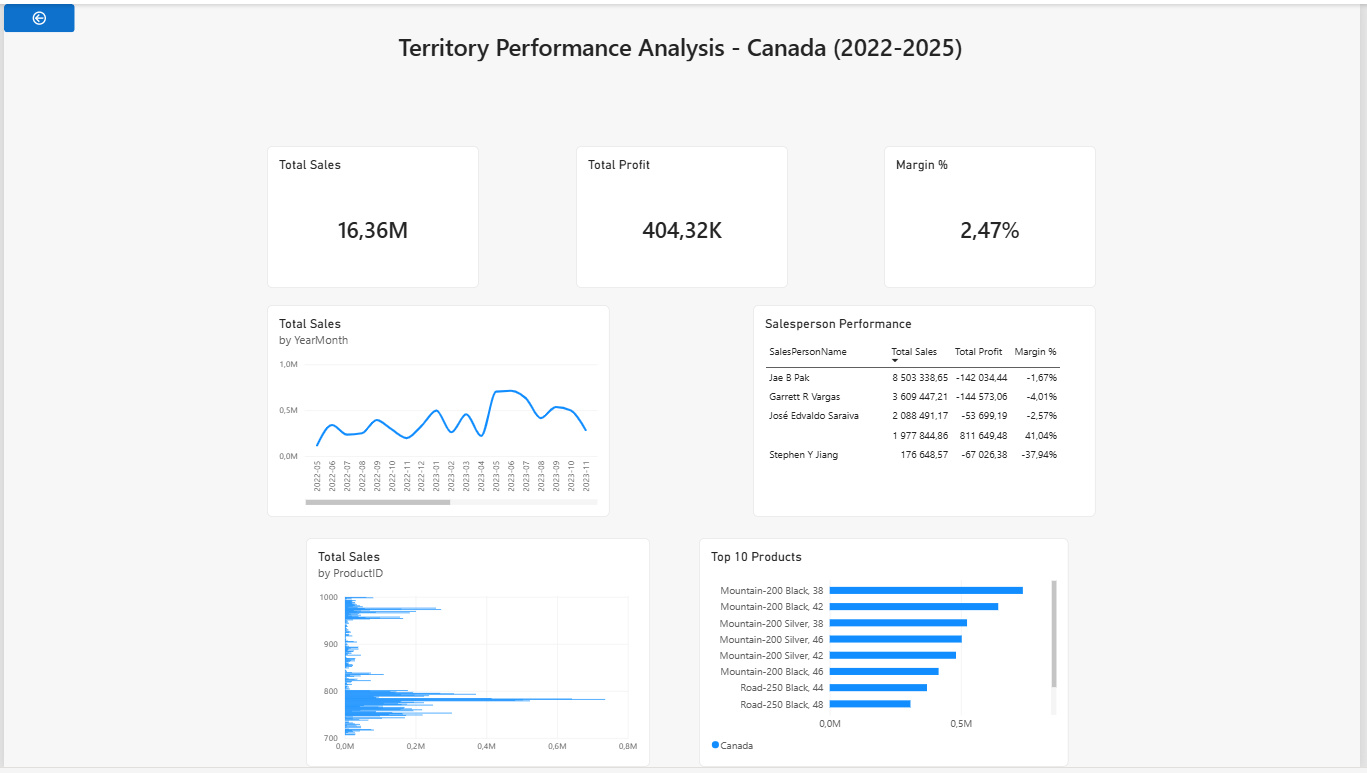

The page's visual inventory and layout, read from the dashboard file:
{"tool":"powerbi","page":{"name":"Territory Detail","canvas":[1920,1080],"ordinal":1},"visuals":[{"type":"actionButton","box":[0,0,100,40],"z":0},{"type":"kpi","title":"Total Sales ","fields":{"Indicator":["FactSales.Total Sales"],"TrendLine":["DimTerritory.Name"]},"box":[371.9,201.3,300,200.6],"z":1000},{"type":"kpi","title":"Total Profit ","fields":{"Indicator":["FactSales.Total Profit"],"TrendLine":["DimTerritory.Name"]},"box":[809.7,201.3,300,200.6],"z":2000},{"type":"kpi","title":"Margin % ","fields":{"Indicator":["FactSales.Margin %"],"TrendLine":["DimTerritory.Name"]},"box":[1245.7,201.3,300,200.6],"z":3000},{"type":"lineChart","fields":{"Category":["DimDate.YearMonth"],"Y":["FactSales.Total Sales"]},"box":[371.9,426.6,484.9,300],"z":4000},{"type":"clusteredBarChart","fields":{"Category":["DimProduct.ProductID"],"Y":["FactSales.Total Sales"]},"box":[427.3,755.2,486.6,324.4],"z":5000},{"type":"tableEx","title":"Salesperson Performance","fields":{"Values":["DimSalesPerson.SalesPersonName","FactSales.Total Sales","FactSales.Total Profit","FactSales.Margin %"]},"box":[1060.8,426.6,484.9,300],"z":6000},{"type":"clusteredBarChart","title":"Top 10 Products","fields":{"Category":["DimProduct.Name"],"Series":["DimTerritory.Name"],"Y":["FactSales.Total Sales"]},"box":[983.7,755.2,523.3,324.4],"z":7000},{"type":"cardVisual","fields":{"Data":["DimTerritory.Territory Title"]},"box":[371.5,0,1173.8,108.1],"z":9001}]}

Visuals, with their boxes in screenshot pixels (x1, y1, x2, y2), scaled from the page's 1920x1080 canvas onto the 1367x773 screenshot:
actionButton: (0,0,71,29)
"Total Sales " kpi: (265,144,478,288)
"Total Profit " kpi: (576,144,790,288)
"Margin % " kpi: (887,144,1101,288)
lineChart - DimDate.YearMonth x FactSales.Total Sales: (265,305,610,520)
clusteredBarChart - DimProduct.ProductID x FactSales.Total Sales: (304,541,651,772)
"Salesperson Performance" tableEx: (755,305,1101,520)
"Top 10 Products" clusteredBarChart: (700,541,1073,772)
cardVisual - DimTerritory.Territory Title: (265,0,1100,77)
